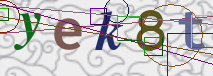8: (134, 7, 169, 56)
e: (51, 15, 85, 55)
k: (93, 8, 125, 55)
t: (174, 7, 210, 55)
y: (10, 10, 45, 54)
